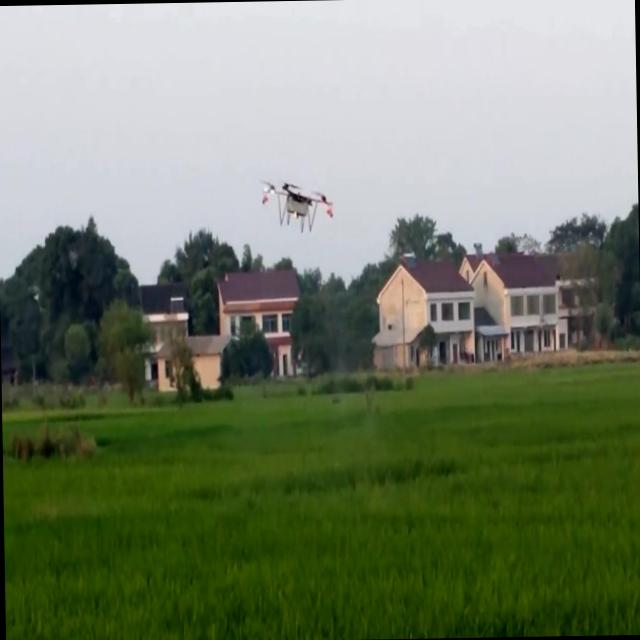drone: (255, 172, 335, 240)
